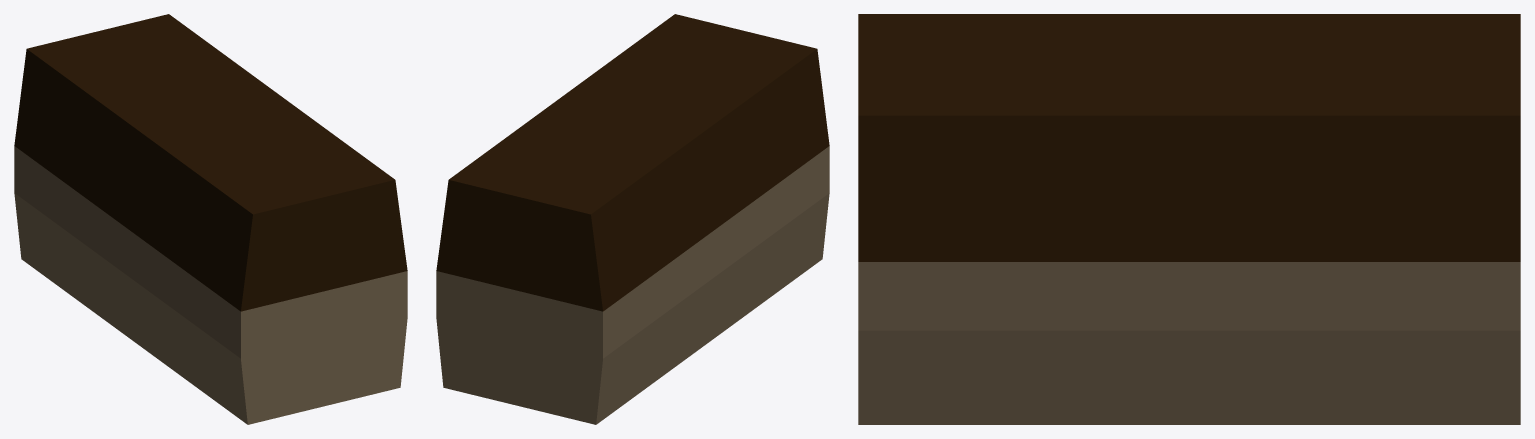
Rendered from WeinerMiddle.glb.
The picture shows the model from 3 angles, left to right: view 1: azimuth 30°, elevation 25°; view 2: azimuth 150°, elevation 25°; view 3: azimuth 270°, elevation 25°; orthographic projection. The views are drawn at different scales.
Parts seen in each view (by area): view 1: WeinerMiddle; view 2: WeinerMiddle; view 3: WeinerMiddle.
Part boxes in pixels (bbox=[...]): WeinerMiddle: bbox=[14, 14, 407, 424]; WeinerMiddle: bbox=[436, 14, 829, 424]; WeinerMiddle: bbox=[858, 14, 1520, 424].
Bounding box in the file's own units: 0.4251 × 0.5095 × 1.
